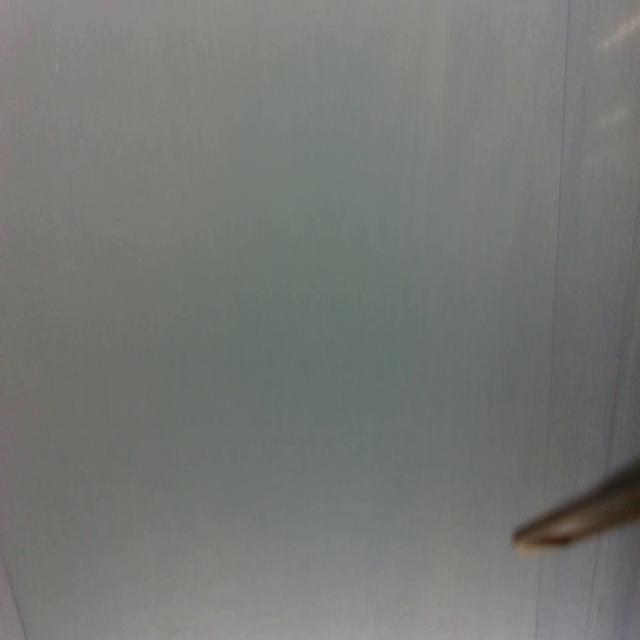crease: (542, 0, 571, 503), (606, 207, 638, 466), (0, 553, 29, 640), (583, 537, 601, 640), (534, 555, 543, 640)
hole: (54, 56, 60, 74)
